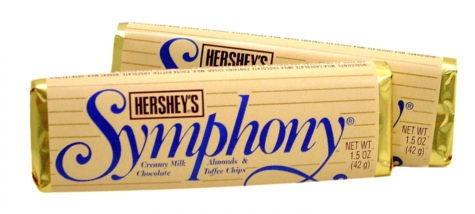grozi_76: (30, 22, 456, 192)
